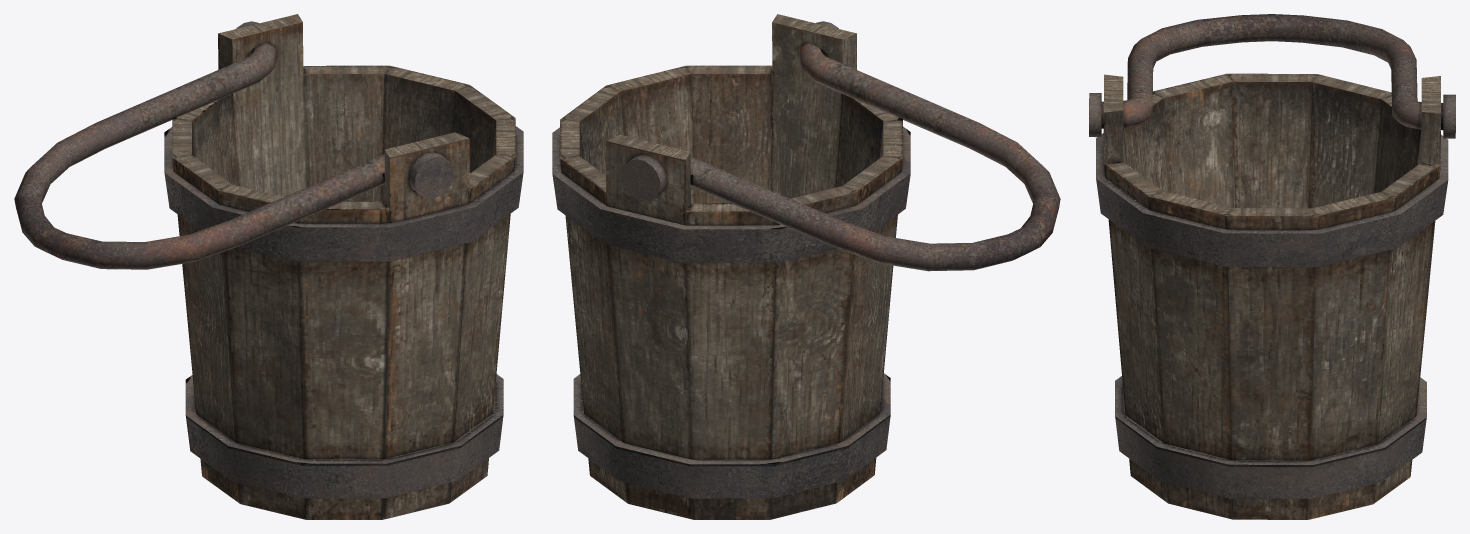
File: bucket.glb
The picture shows the model from 3 angles, left to right: view 1: azimuth 30°, elevation 25°; view 2: azimuth 150°, elevation 25°; view 3: azimuth 270°, elevation 25°; orthographic projection.
Visible parts, largest first — view 1: Bucket_LP_FloorExtension_1_VarA_LOD0_FloorExtension_1_VarA_m; view 2: Bucket_LP_FloorExtension_1_VarA_LOD0_FloorExtension_1_VarA_m; view 3: Bucket_LP_FloorExtension_1_VarA_LOD0_FloorExtension_1_VarA_m.
Part boxes in pixels (bbox=[...]): Bucket_LP_FloorExtension_1_VarA_LOD0_FloorExtension_1_VarA_m: bbox=[14, 14, 523, 519]; Bucket_LP_FloorExtension_1_VarA_LOD0_FloorExtension_1_VarA_m: bbox=[552, 14, 1060, 519]; Bucket_LP_FloorExtension_1_VarA_LOD0_FloorExtension_1_VarA_m: bbox=[1089, 14, 1455, 519].
Bounding box in the file's own units: 0.5132 × 0.3939 × 0.3563.
Materials: 1 (1 with a texture image).
